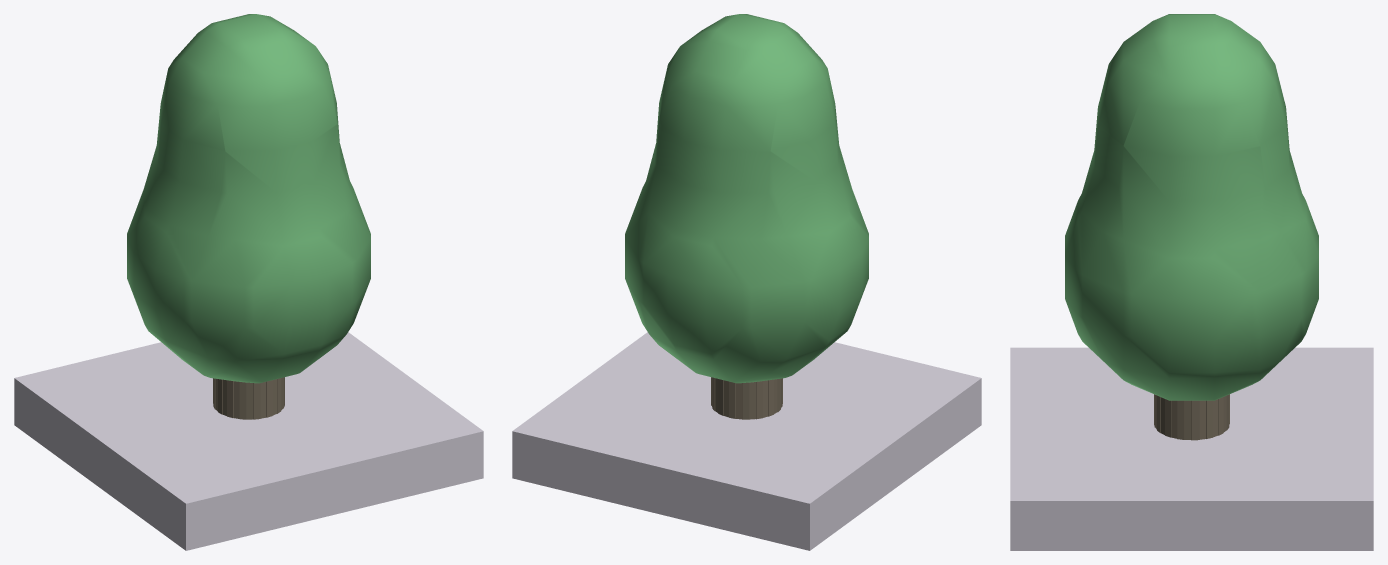
Rendered from grass_tree_low.fbx.
3 views of the same model, side by side, from view 1: azimuth 30°, elevation 25°; view 2: azimuth 150°, elevation 25°; view 3: azimuth 270°, elevation 25° (orthographic). The views are drawn at different scales.
Parts seen in each view (by area): view 1: low tree, white base.006; view 2: low tree, white base.006; view 3: low tree, white base.006.
Boxes of the visible parts, <box> form: low tree: <box>127,14,370,419</box>; white base.006: <box>14,332,483,550</box>; low tree: <box>625,14,868,419</box>; white base.006: <box>512,332,981,550</box>; low tree: <box>1065,14,1318,440</box>; white base.006: <box>1010,347,1373,550</box>.
Bounding box in the file's own units: 160 × 219 × 160.
